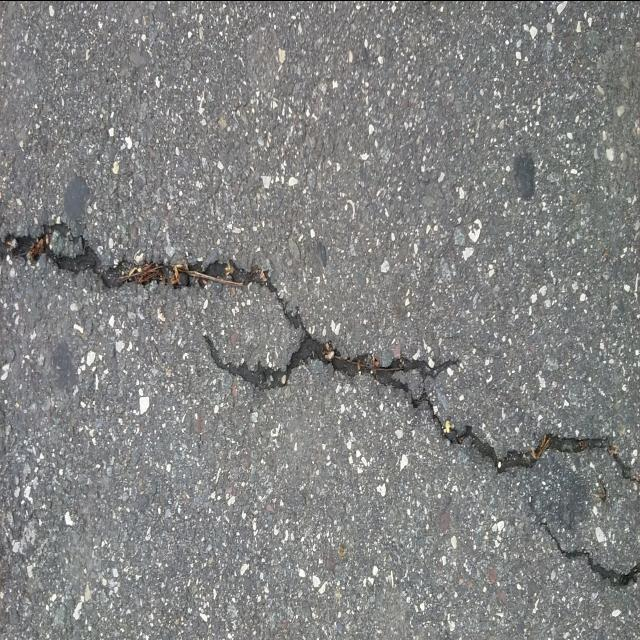Crack: (0, 221, 640, 484), (540, 519, 640, 588)
